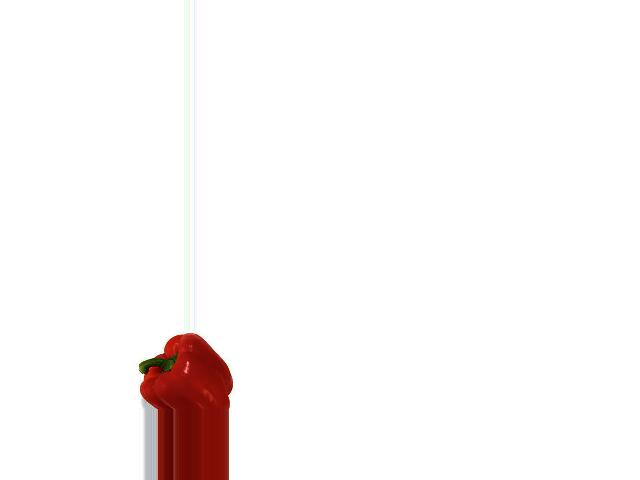bell_pepper: (126, 332, 243, 410)
